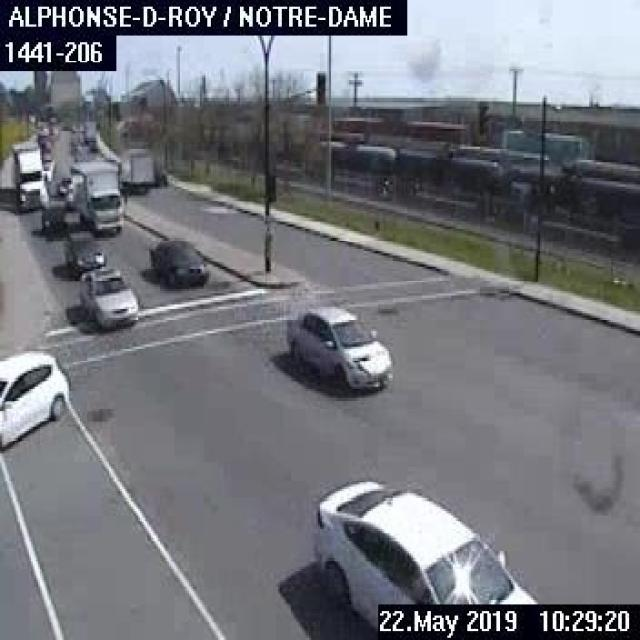vehicle: (308, 476, 536, 626), (285, 300, 393, 391), (0, 347, 69, 451), (66, 155, 125, 236), (76, 264, 142, 334), (147, 233, 209, 289), (9, 137, 50, 213), (114, 144, 156, 196), (60, 231, 108, 274), (40, 199, 66, 236)
